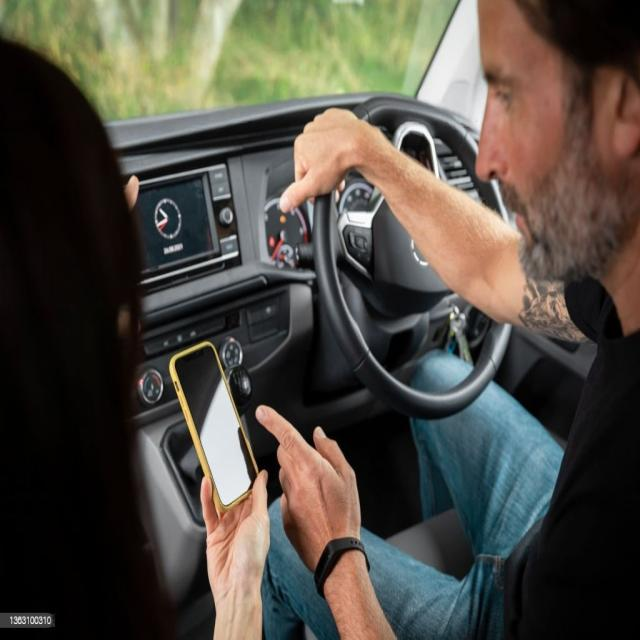phone: (170, 340, 261, 514)
